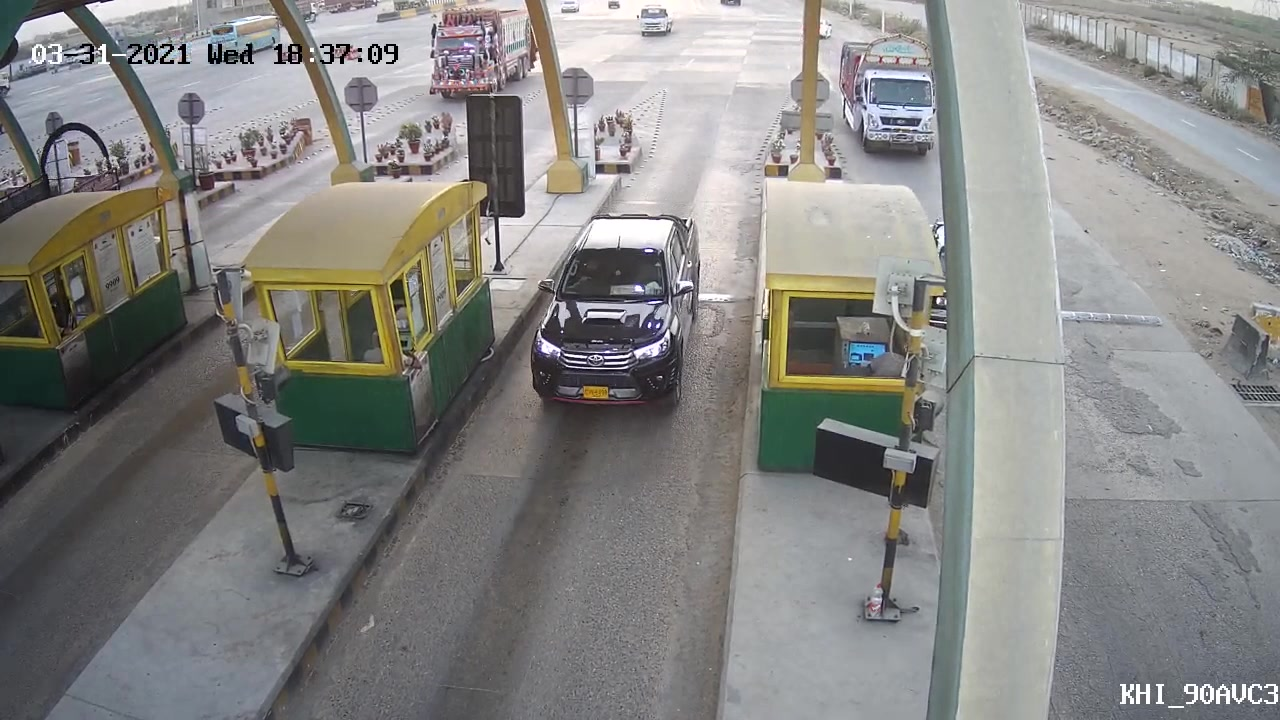F1: (525, 207, 710, 411)
